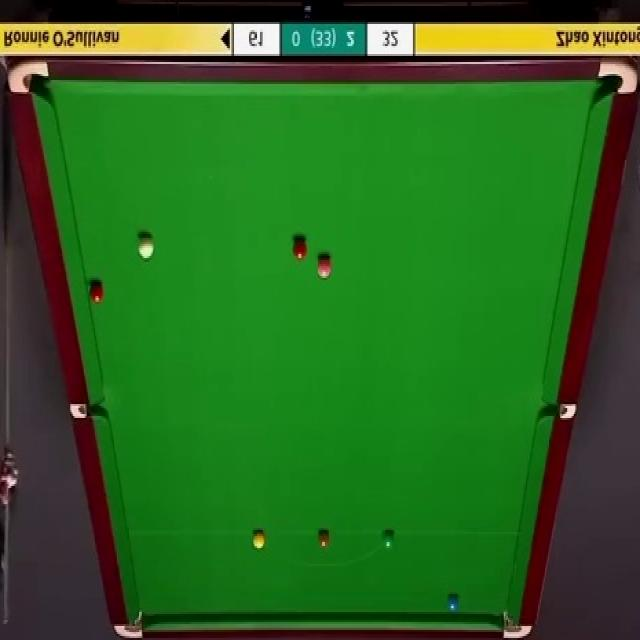blue-ball: (446, 594, 460, 613)
brown-ball: (317, 531, 330, 548)
green-ball: (382, 528, 396, 552)
pink-ball: (316, 255, 330, 279)
red-ball: (89, 282, 105, 305), (292, 239, 307, 262)
white-ball: (137, 234, 153, 261)
yellow-ball: (252, 530, 266, 551)
